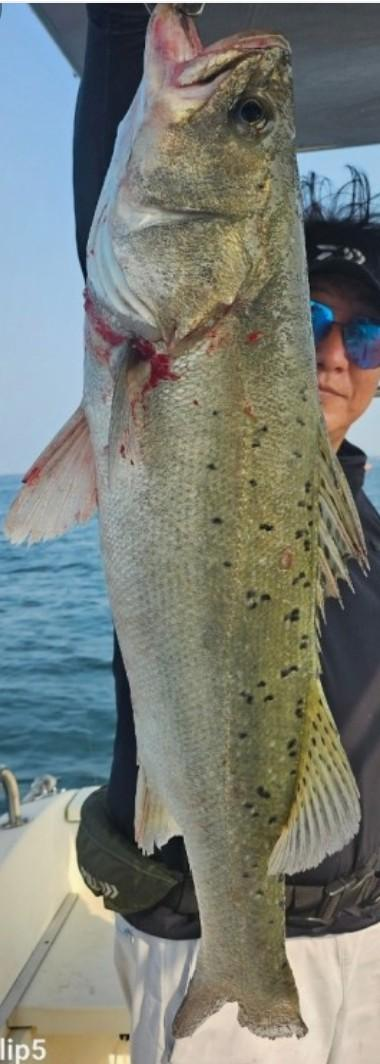fish: (6, 6, 366, 1036)
